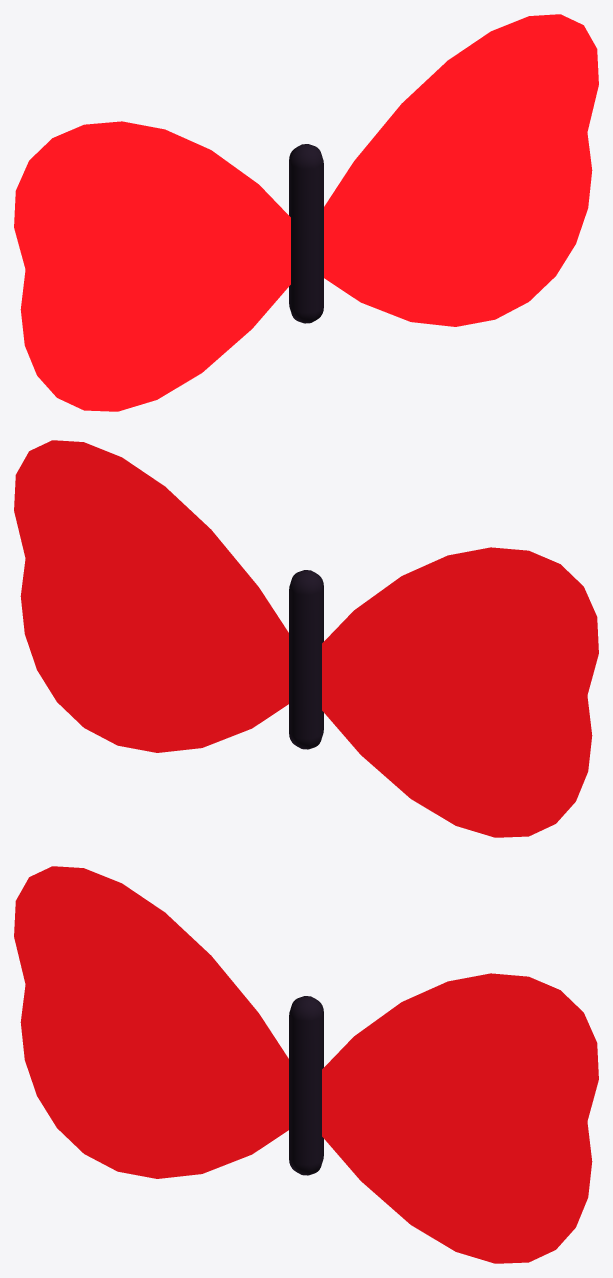
File: butterfly.glb
3 renders of one model, top to bottom at view 1: azimuth 30°, elevation 25°; view 2: azimuth 150°, elevation 25°; view 3: azimuth 330°, elevation 25°, orthographic.
Visible parts, largest first — view 1: wingL, wingR, butterfly; view 2: wingL, wingR, butterfly; view 3: wingR, wingL, butterfly.
Part boxes in pixels (x1=…): wingL: x1=14, y1=121, x2=290, y2=411; wingR: x1=324, y1=14, x2=598, y2=326; butterfly: x1=289, y1=144, x2=323, y2=323; wingL: x1=322, y1=547, x2=598, y2=837; wingR: x1=14, y1=440, x2=288, y2=752; butterfly: x1=289, y1=570, x2=323, y2=749; wingR: x1=322, y1=973, x2=598, y2=1263; wingL: x1=14, y1=866, x2=288, y2=1178; butterfly: x1=289, y1=996, x2=323, y2=1175.
Bounding box in the file's own units: 0.5153 × 0.2486 × 0.0275.
